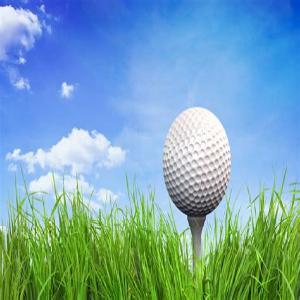Golf: (163, 103, 231, 212)
